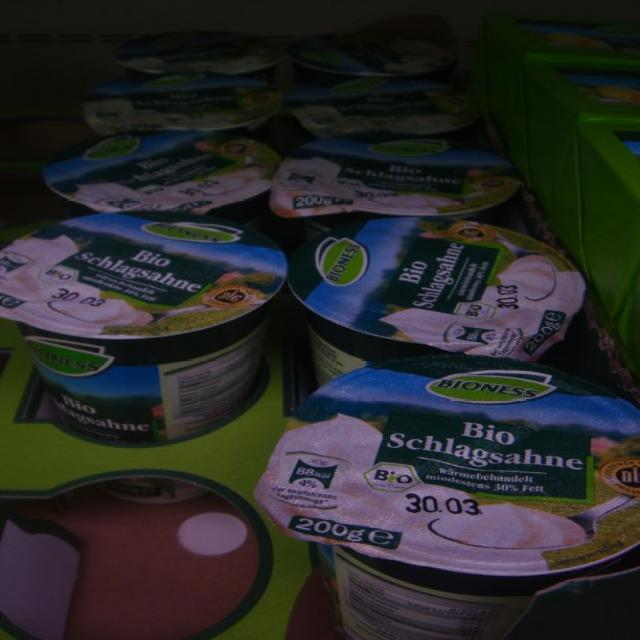Cream: (255, 355, 640, 640), (0, 213, 285, 445), (290, 218, 587, 384), (269, 129, 519, 240), (43, 130, 280, 223), (85, 75, 281, 135), (285, 78, 479, 138), (292, 34, 456, 86), (115, 31, 280, 75)
